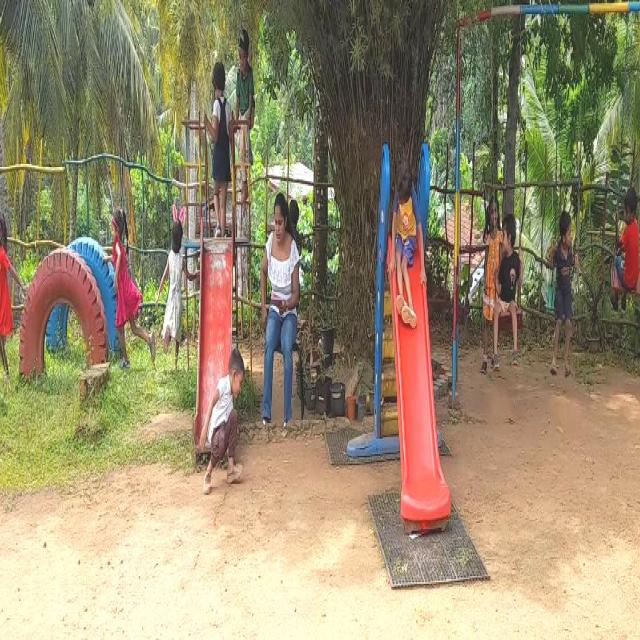adult: (259, 174, 307, 418)
child: (383, 136, 417, 324), (109, 207, 147, 375), (607, 159, 640, 323), (157, 200, 189, 368), (493, 205, 528, 358), (544, 198, 573, 381), (204, 47, 231, 229), (207, 328, 238, 479), (0, 203, 13, 364)
